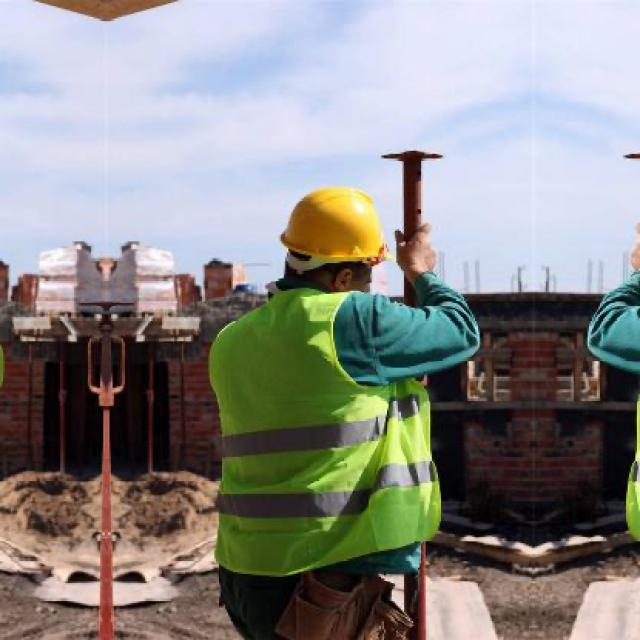helmet: (267, 171, 404, 292)
